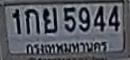1: (12, 8, 20, 34)
4: (93, 5, 104, 31), (108, 5, 119, 31)
5: (63, 6, 75, 31)
9: (78, 6, 89, 31)
A01: (24, 8, 39, 34)
A34: (42, 7, 56, 33)
BKK: (24, 40, 109, 54)
